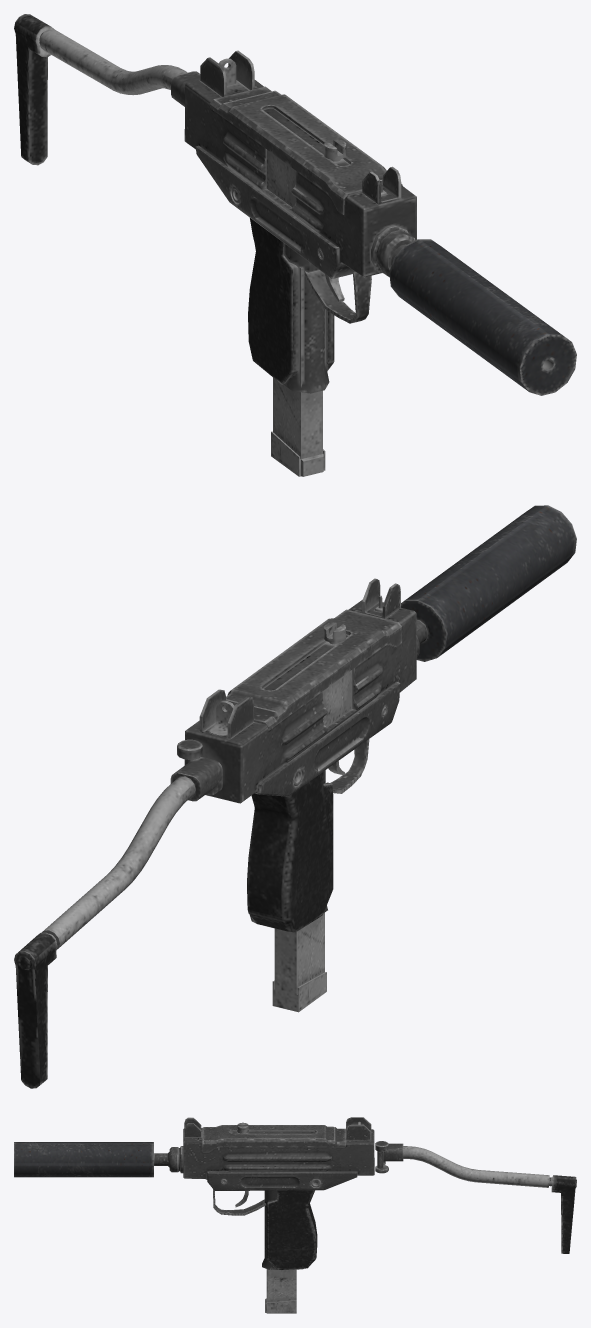
Rendered from IMI UZI.fbx.
3 views of the same model, one above another, from view 1: azimuth 30°, elevation 25°; view 2: azimuth 150°, elevation 25°; view 3: azimuth 270°, elevation 25° (orthographic). The views are drawn at different scales.
Visible parts, largest first — view 1: Cylinder.004, Cube, Cube.003, Vert, Cube.002, Cube.012, Cube.004, Cube.001, Plane, Cube.005, Cube.013, Cube.010 (+2 smaller); view 2: Cylinder.004, Cube.002, Cube, Vert, Cube.003, Cube.004, Cube.012, Cube.011, Cube.013, Cube.010, Plane, Cube.007; view 3: Cube, Cylinder.004, Cube.002, Vert, Cube.003, Cube.004, Cube.012, Cube.005, Cube.001, Cube.006, Plane, Cube.011 (+2 smaller).
Boxes of the visible parts, x1,y1,x2,y2 form: Cylinder.004: (389, 239, 576, 395); Cube: (184, 79, 416, 277); Cube.003: (209, 86, 402, 214); Vert: (14, 14, 187, 165); Cube.002: (248, 218, 334, 384); Cube.012: (271, 267, 325, 476); Cube.004: (195, 145, 355, 278); Cube.001: (284, 244, 329, 393); Plane: (304, 270, 371, 323); Cube.005: (371, 225, 415, 276); Cube.013: (266, 149, 296, 207); Cube.010: (362, 166, 401, 204); Cylinder.004: (401, 505, 576, 661); Cube.002: (247, 771, 333, 932); Cube: (184, 599, 416, 803); Vert: (14, 776, 195, 1088); Cube.003: (226, 609, 401, 730); Cube.004: (254, 682, 400, 796); Cube.012: (272, 912, 326, 1012); Cube.011: (170, 757, 222, 801); Cube.013: (323, 670, 352, 727); Cube.010: (362, 578, 400, 618); Plane: (330, 739, 369, 793); Cube.007: (227, 696, 253, 738); Cube: (183, 1128, 374, 1186); Cylinder.004: (14, 1142, 153, 1177); Cube.002: (267, 1190, 317, 1269); Vert: (403, 1146, 576, 1253); Cube.003: (202, 1125, 345, 1152); Cube.004: (207, 1171, 357, 1190); Cube.012: (265, 1269, 296, 1313); Cube.005: (154, 1146, 183, 1173); Cube.001: (262, 1190, 303, 1269); Cube.006: (346, 1124, 371, 1140); Plane: (213, 1189, 265, 1215); Cube.011: (383, 1143, 403, 1164).
Bounding box in the file's own units: 45.53 × 229 × 615.
